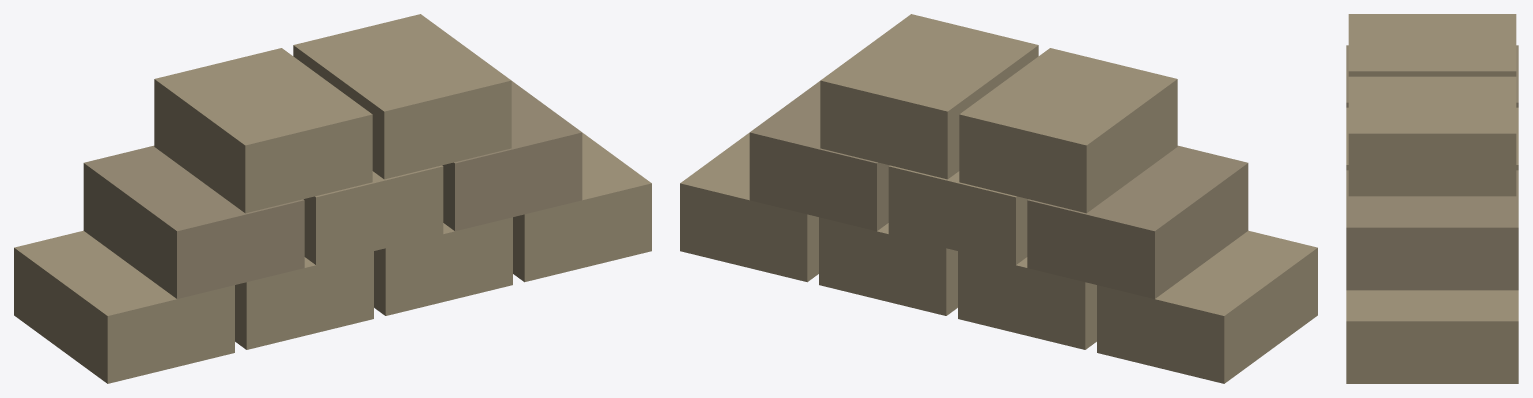
Rendered from p_sandbags.glb.
The picture shows the model from 3 angles, left to right: view 1: azimuth 30°, elevation 25°; view 2: azimuth 150°, elevation 25°; view 3: azimuth 270°, elevation 25°; orthographic projection. The views are drawn at different scales.
Parts seen in each view (by area): view 1: body; view 2: body; view 3: body.
Boxes of the visible parts, x1,y1,x2,y2 form: body: [14, 14, 651, 383]; body: [680, 14, 1317, 383]; body: [1346, 14, 1518, 383].
Bounding box in the file's own units: 2.35 × 0.84 × 0.7.
